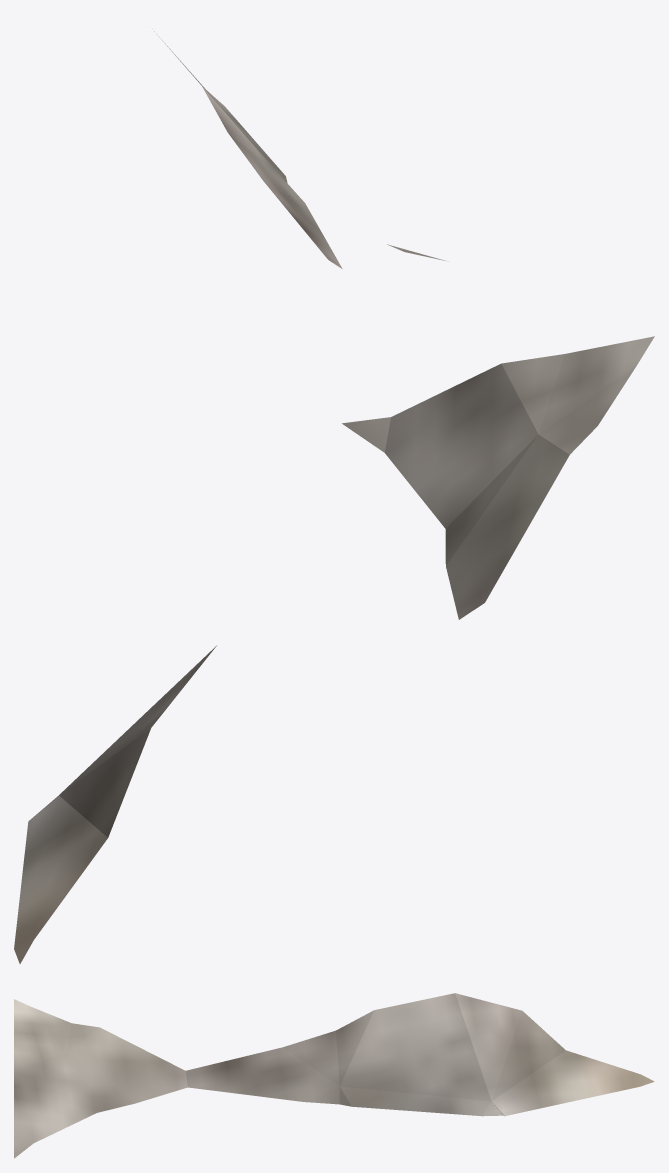
The picture shows the model from 3 angles, top to bottom: view 1: azimuth 30°, elevation 25°; view 2: azimuth 150°, elevation 25°; view 3: azimuth 270°, elevation 25°; orthographic projection. The views are drawn at different scales.
Size of the model in its own units: 0.1541 by 0.0824 by 0.5407.
1 material, 1 textured.
